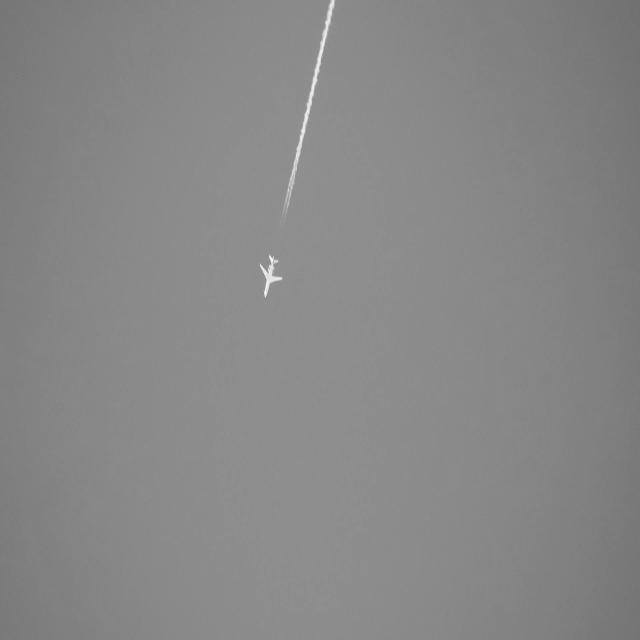aeroplane: (257, 252, 284, 303)
